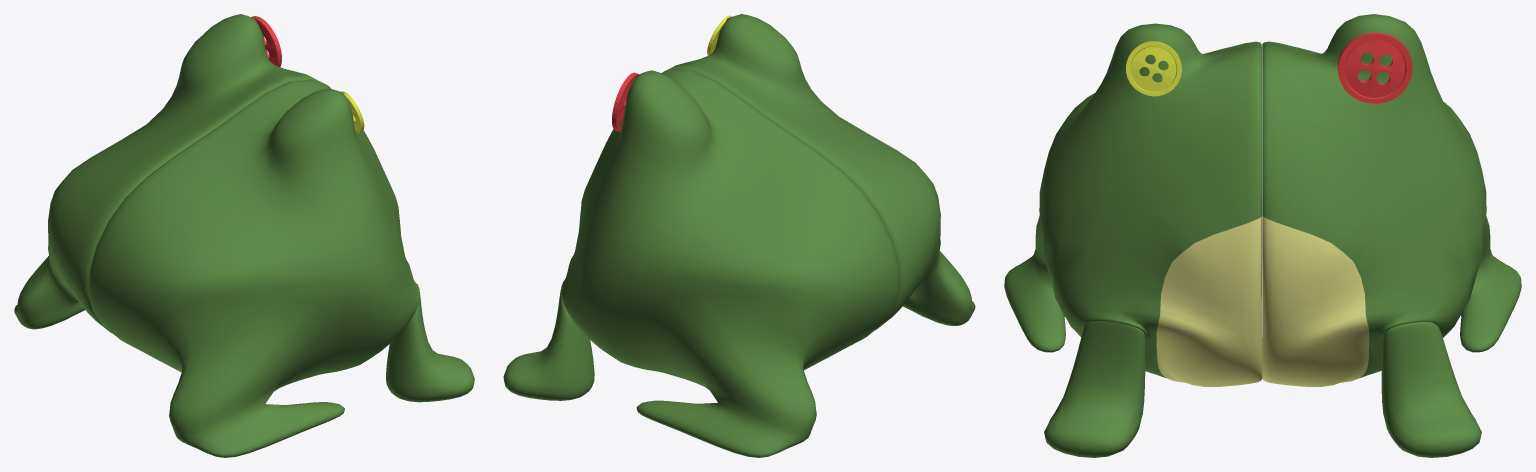
The model's file is frog.fbx.
The picture shows the model from 3 angles, left to right: view 1: azimuth 30°, elevation 25°; view 2: azimuth 150°, elevation 25°; view 3: azimuth 270°, elevation 25°; orthographic projection. The views are drawn at different scales.
Visible parts, largest first — view 1: Frog; view 2: Frog; view 3: Frog.
Part boxes in pixels (x1,y1,x2,y2): Frog: (14,14,474,457); Frog: (503,14,975,457); Frog: (1004,14,1521,457).
Size of the model in its own units: 190 by 180 by 219.
